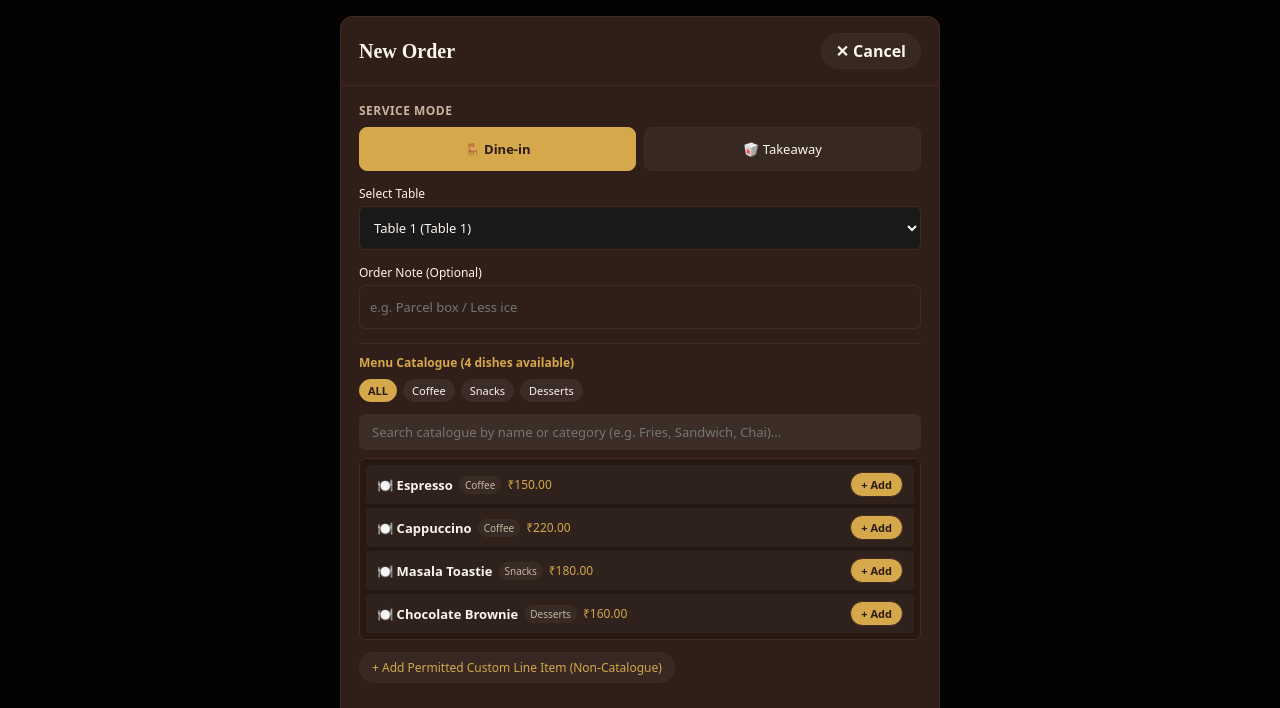
Scenario: ManualOrderModal Component › allows adding and removing custom line items with notes
Note: Open custom line item form
Click the button "+ Add Permitted Custom Line Item (Non-Catalogue)" at (517, 668), box [359, 652, 675, 683]
(page scrolled)
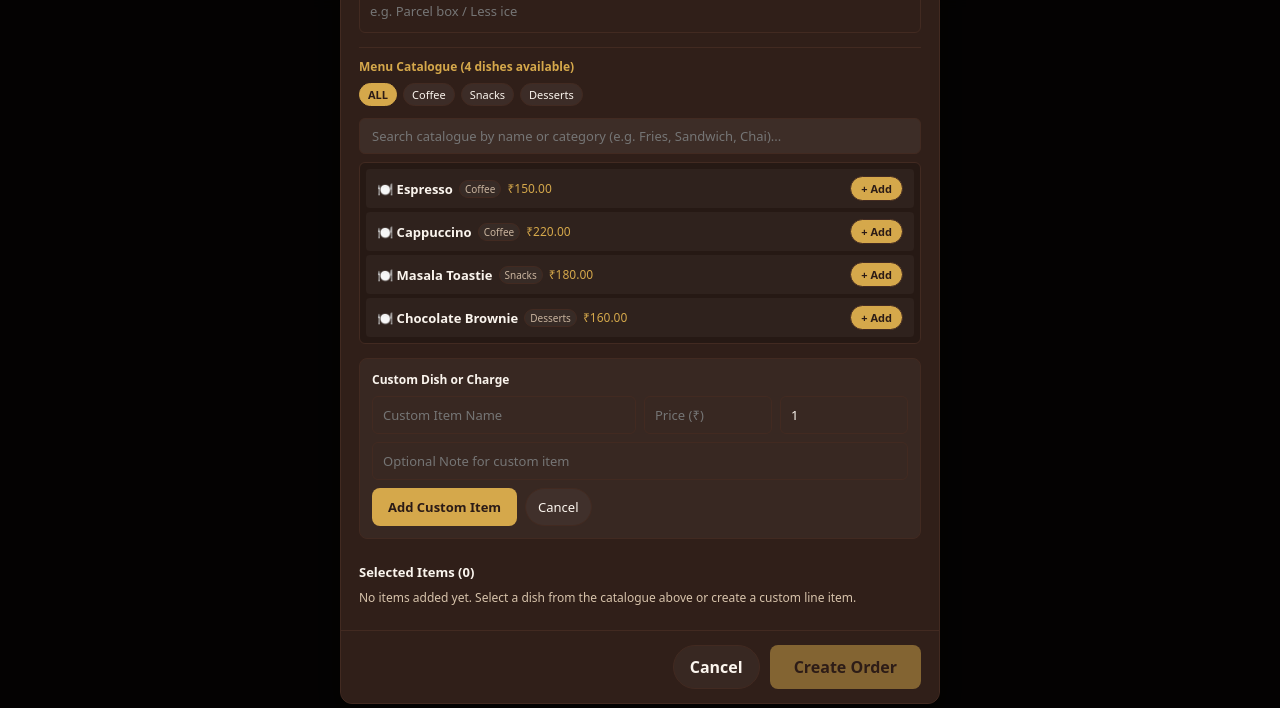
Type "Special Masala Chai" into the field with placeholder "Custom Item Name" at (504, 415), box [372, 396, 636, 434]
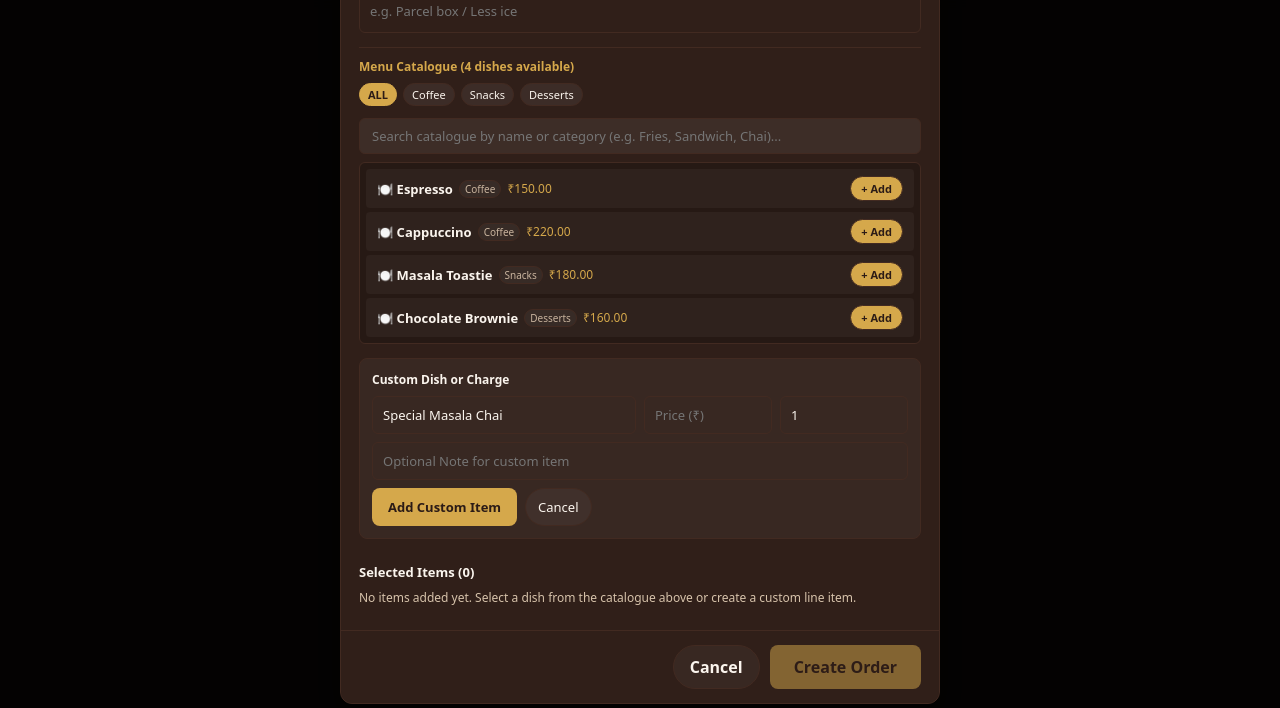
Type "60" into the number field with placeholder "Price (₹)" at (708, 415), box [644, 396, 772, 434]
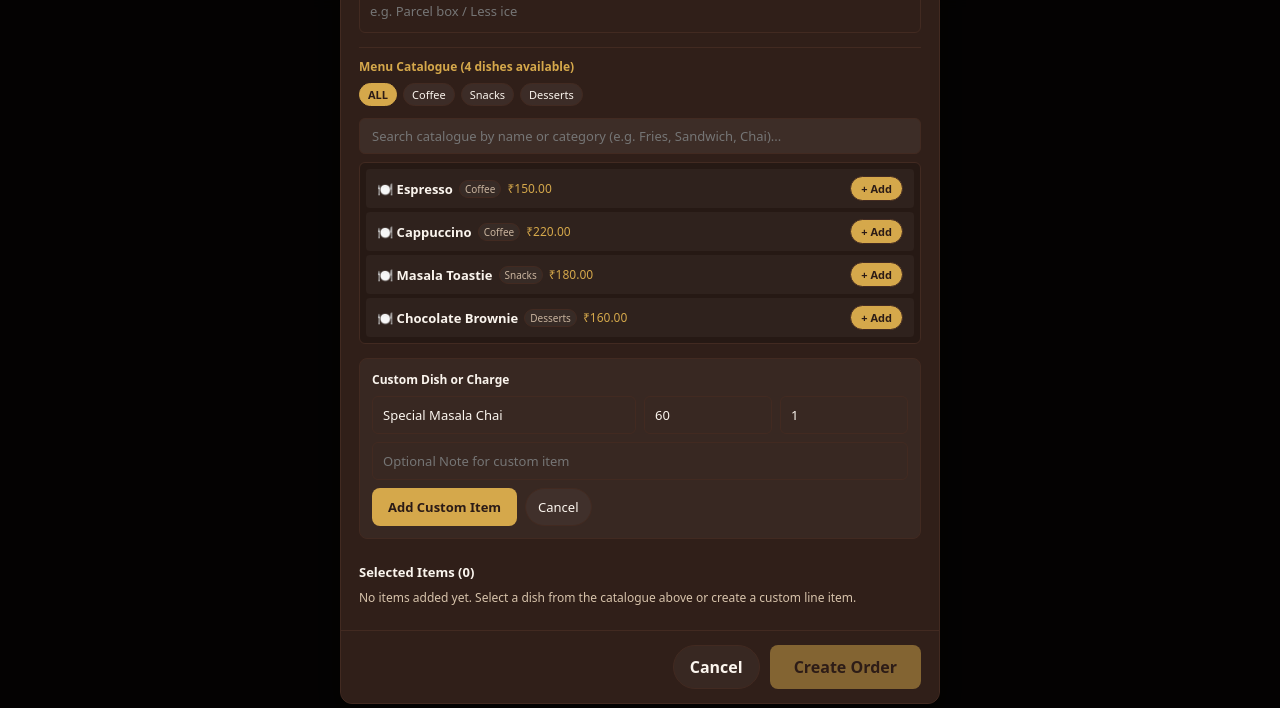
Type "Less sugar, ginger" into the field with placeholder "Optional Note for custom item" at (640, 461), box [372, 442, 908, 480]
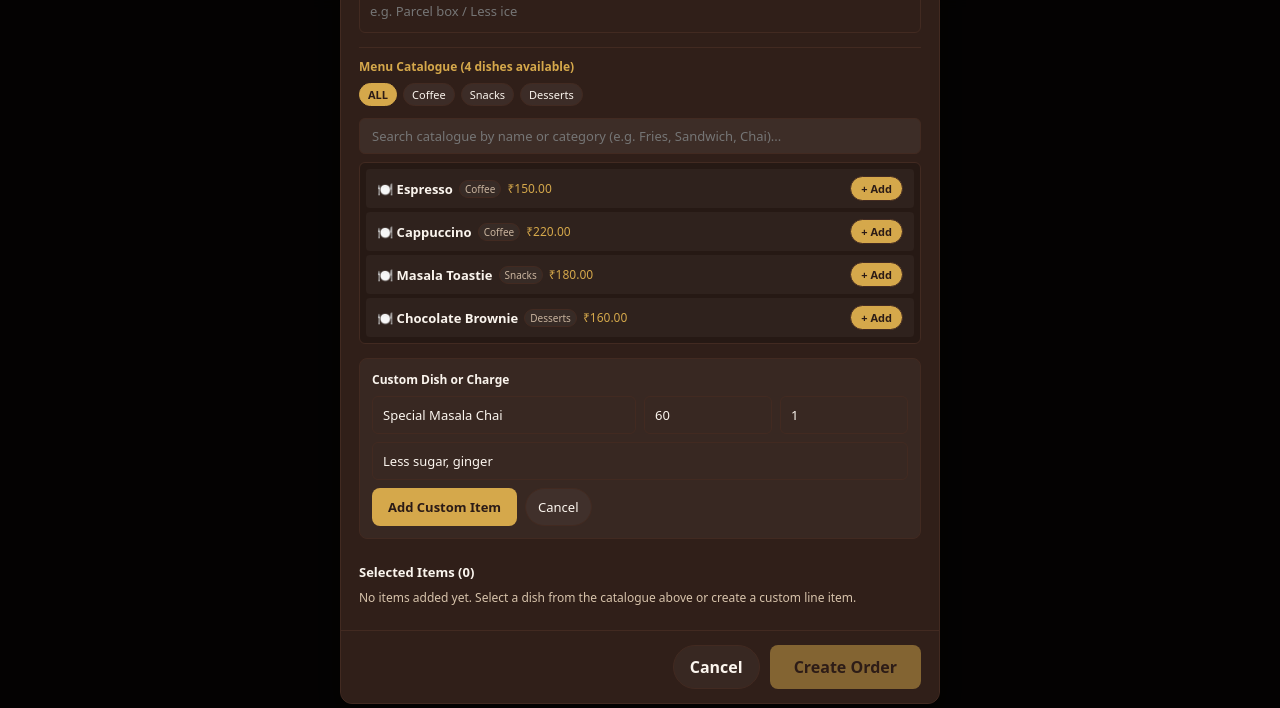
Note: Click Add Custom Item
Click the button "Add Custom Item" at (445, 507), box [372, 488, 517, 526]
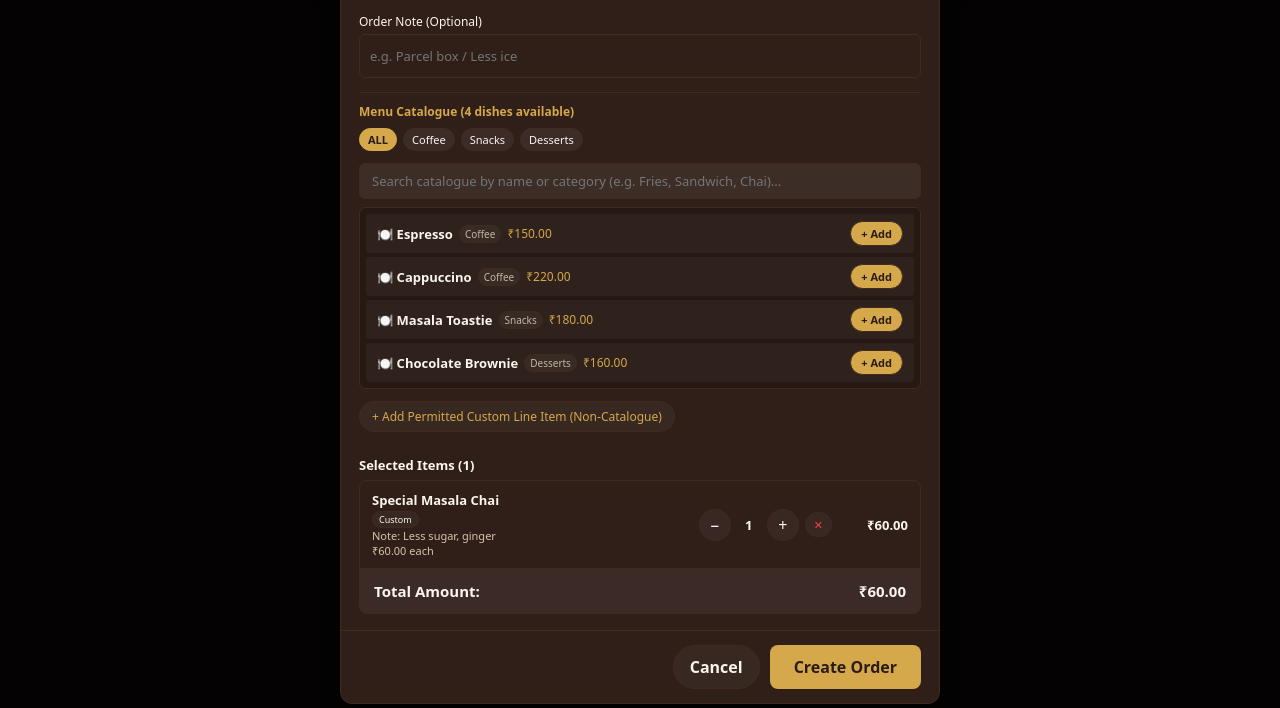
Check: the text "Custom" is shown, box [372, 511, 419, 528]
Check: the text "Special Masala Chai" is shown, box [372, 491, 499, 509]
Check: the text "Note: Less sugar, ginger" is shown, box [372, 528, 496, 543]
